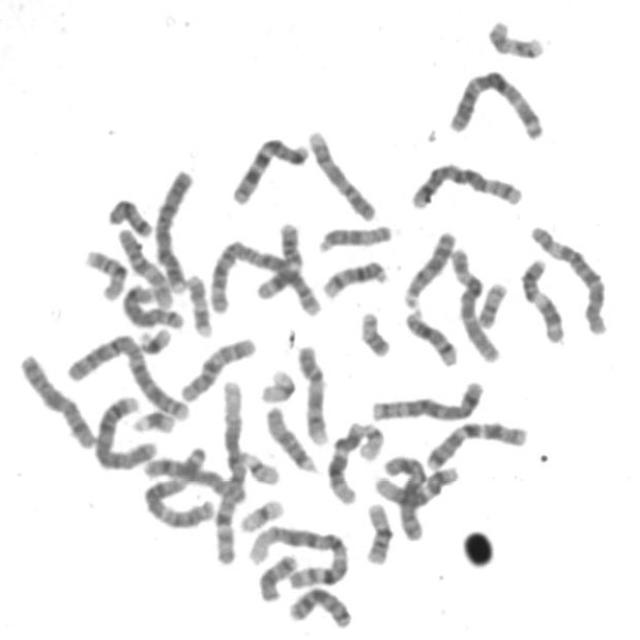A1: (240, 516, 352, 588), (208, 374, 248, 567)
A2: (61, 327, 194, 422), (203, 233, 324, 318)
A3: (442, 63, 547, 142), (138, 442, 218, 532)
B4: (148, 161, 197, 296), (88, 389, 158, 472)
B5: (405, 157, 526, 211), (366, 374, 486, 424)
C10: (174, 329, 259, 404), (111, 220, 176, 308)
C11: (514, 251, 568, 345), (250, 215, 304, 302)
C12: (369, 458, 462, 509), (321, 416, 366, 506)
C6: (525, 218, 611, 336), (444, 240, 504, 364)
C7: (225, 130, 312, 206), (418, 414, 530, 472)
C8: (138, 451, 248, 503), (117, 277, 186, 331)
C9: (301, 122, 378, 222), (291, 338, 332, 447)
D13: (398, 223, 458, 310), (282, 586, 364, 632)
D14: (399, 303, 461, 368), (316, 252, 390, 300)
D15: (260, 399, 320, 474), (312, 218, 394, 254)
E16: (79, 243, 128, 302), (358, 496, 396, 566)
E17: (481, 12, 548, 60), (180, 268, 216, 339)
E18: (253, 549, 300, 603), (102, 190, 154, 238)
F19: (234, 492, 286, 534), (255, 363, 298, 405)
F20: (353, 304, 393, 359), (472, 275, 510, 329)
G21: (127, 403, 176, 435), (132, 321, 174, 357)
G22: (237, 446, 290, 488), (352, 416, 386, 463)
X: (13, 346, 98, 451), (379, 450, 437, 549)
